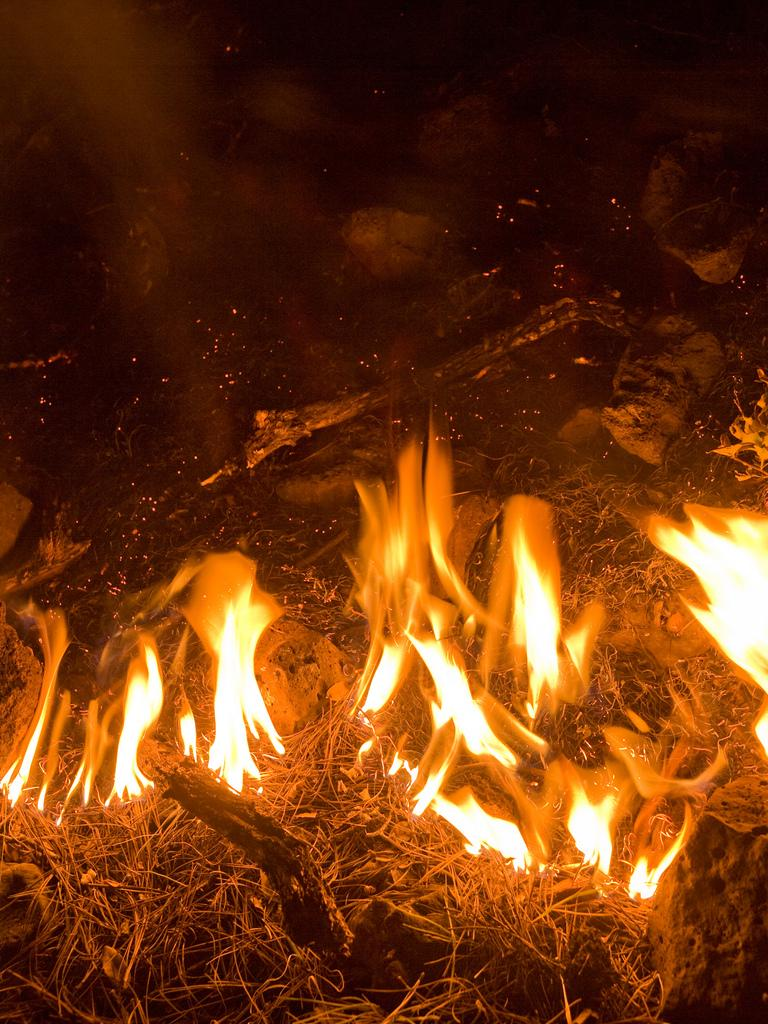fire: (682, 515, 765, 665), (215, 605, 282, 768), (422, 630, 500, 742), (120, 660, 158, 800), (572, 785, 625, 862)
